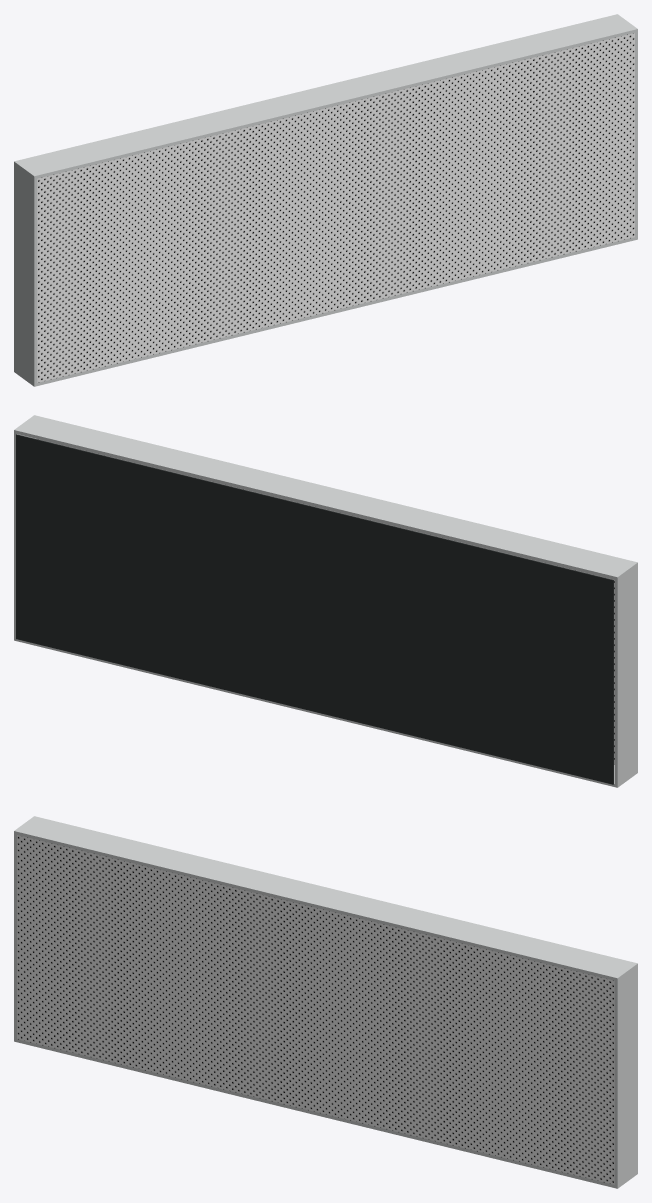
The model's file is ecoclima-egff-600x200.glb.
3 views of the same model, one above another, from view 1: azimuth 30°, elevation 25°; view 2: azimuth 150°, elevation 25°; view 3: azimuth 330°, elevation 25° (orthographic).
Parts seen in each view (by area): view 1: Profile_lamiera_forata.002, Profile_ritorno.124, Profile_ritorno.126, Profile_ritorno.125, Profile_ritorno.127; view 2: Interno.033, Profile_ritorno.124, Profile_ritorno.126, Profile_ritorno.125, Profile_lamiera_forata.002; view 3: Profile_lamiera_forata.002, Profile_ritorno.124, Profile_ritorno.127, Profile_ritorno.125, Profile_ritorno.126.
Part boxes in pixels (<box>): Profile_lamiera_forata.002: <box>37,33,634,382</box>; Profile_ritorno.124: <box>14,14,637,179</box>; Profile_ritorno.126: <box>14,165,37,383</box>; Profile_ritorno.125: <box>14,236,637,386</box>; Profile_ritorno.127: <box>635,32,637,236</box>; Interno.033: <box>16,434,613,784</box>; Profile_ritorno.124: <box>14,415,637,580</box>; Profile_ritorno.126: <box>614,566,637,784</box>; Profile_ritorno.125: <box>14,637,637,787</box>; Profile_lamiera_forata.002: <box>37,439,614,764</box>; Profile_lamiera_forata.002: <box>17,835,614,1184</box>; Profile_ritorno.124: <box>14,816,637,981</box>; Profile_ritorno.127: <box>614,967,637,1185</box>; Profile_ritorno.125: <box>14,1038,637,1188</box>; Profile_ritorno.126: <box>14,834,16,1038</box>.
Bounding box in the file's own units: 0.6 × 0.2 × 0.037.
3 materials, 1 textured.
